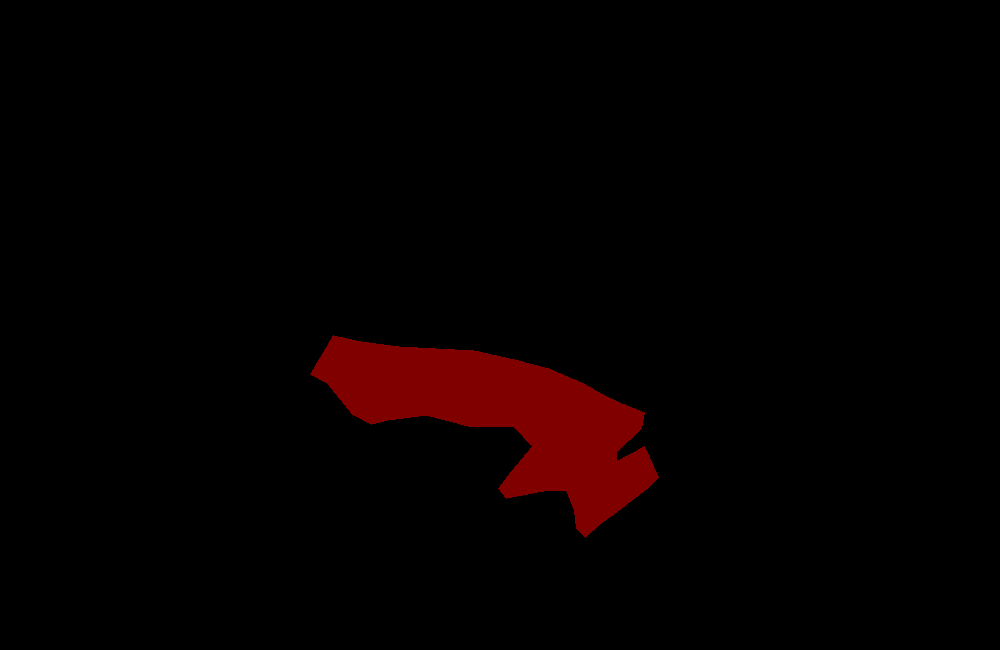fire: (310, 335, 658, 537)
